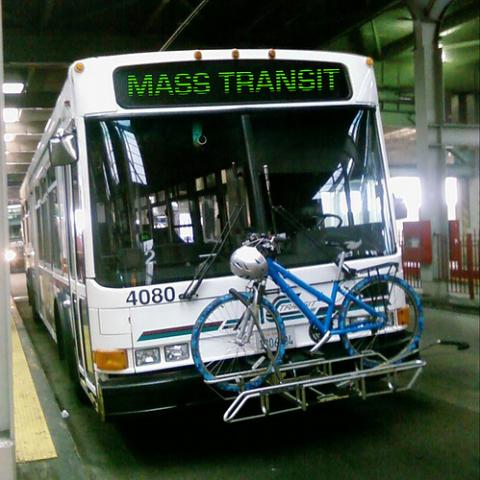bus: (21, 49, 426, 422)
